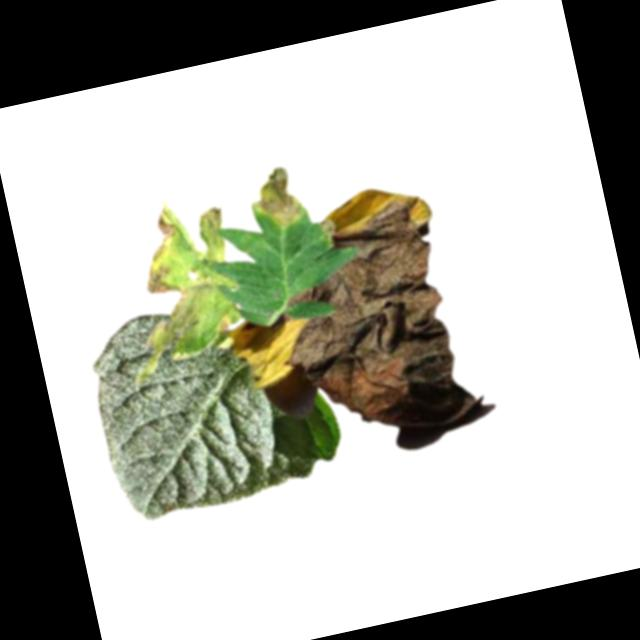Late_blight: (254, 176, 472, 434), (124, 193, 249, 355), (223, 301, 317, 391), (244, 164, 308, 235)
healthy: (78, 276, 351, 527)
